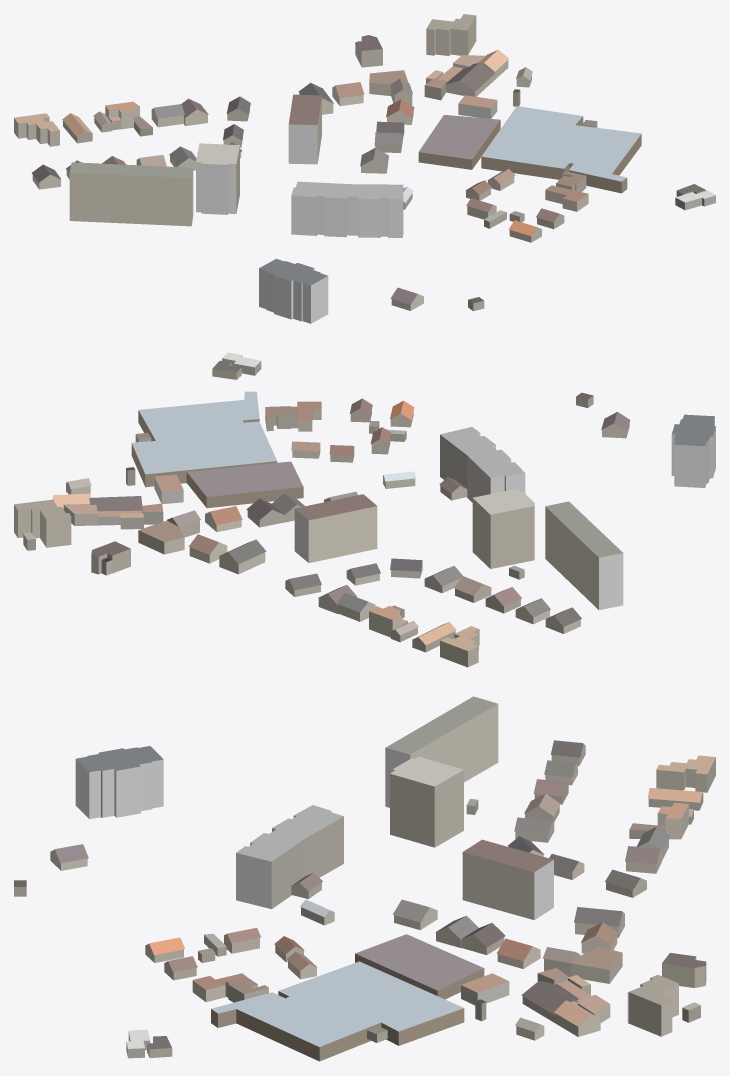
The picture shows the model from 3 angles, top to bottom: view 1: azimuth 30°, elevation 25°; view 2: azimuth 150°, elevation 25°; view 3: azimuth 270°, elevation 25°; orthographic projection. The views are drawn at different scales.
Visible parts, largest first — view 1: tuile; view 2: tuile; view 3: tuile.
Boxes of the visible parts, <box> form: tuile: <box>14,14,715,323</box>; tuile: <box>14,352,715,667</box>; tuile: <box>14,696,715,1061</box>.
Bounding box in the file's own units: 257 × 26.51 × 252.
